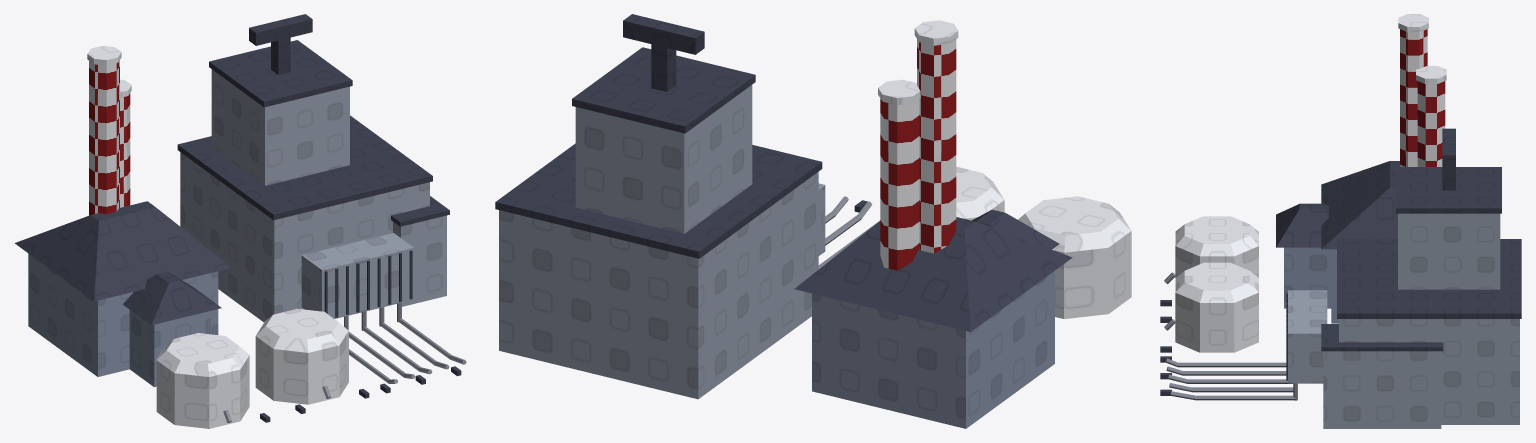
File: Centrale_Rouge_Blanc.fbx
3 renders of one model, left to right at view 1: azimuth 30°, elevation 25°; view 2: azimuth 150°, elevation 25°; view 3: azimuth 270°, elevation 25°, orthographic. The views are drawn at different scales.
Parts seen in each view (by area): view 1: Centrale_Rouge_Blanc; view 2: Centrale_Rouge_Blanc; view 3: Centrale_Rouge_Blanc.
Boxes of the visible parts, left/top/right/bottom form: Centrale_Rouge_Blanc: left=15, top=14, right=466, bottom=428; Centrale_Rouge_Blanc: left=495, top=14, right=1131, bottom=428; Centrale_Rouge_Blanc: left=1160, top=14, right=1521, bottom=428.
Size of what is drawn, in the model's own units: 1005 by 758 by 920.
Materials: 6 (5 with a texture image).
